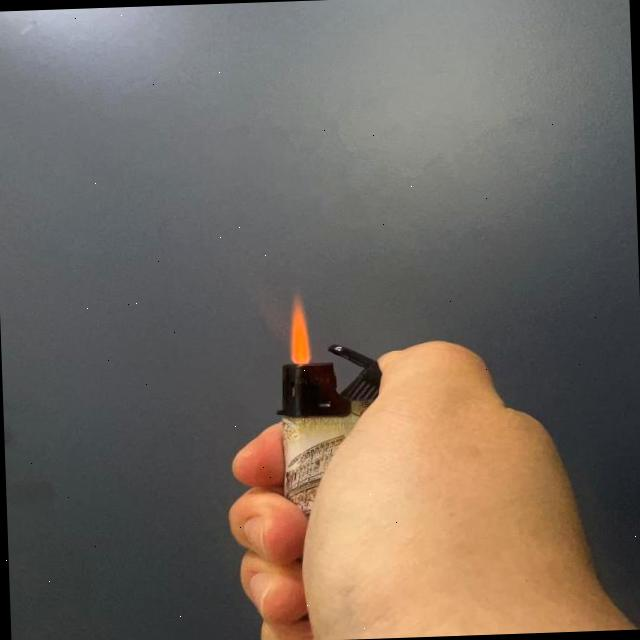fire: (279, 285, 314, 368)
